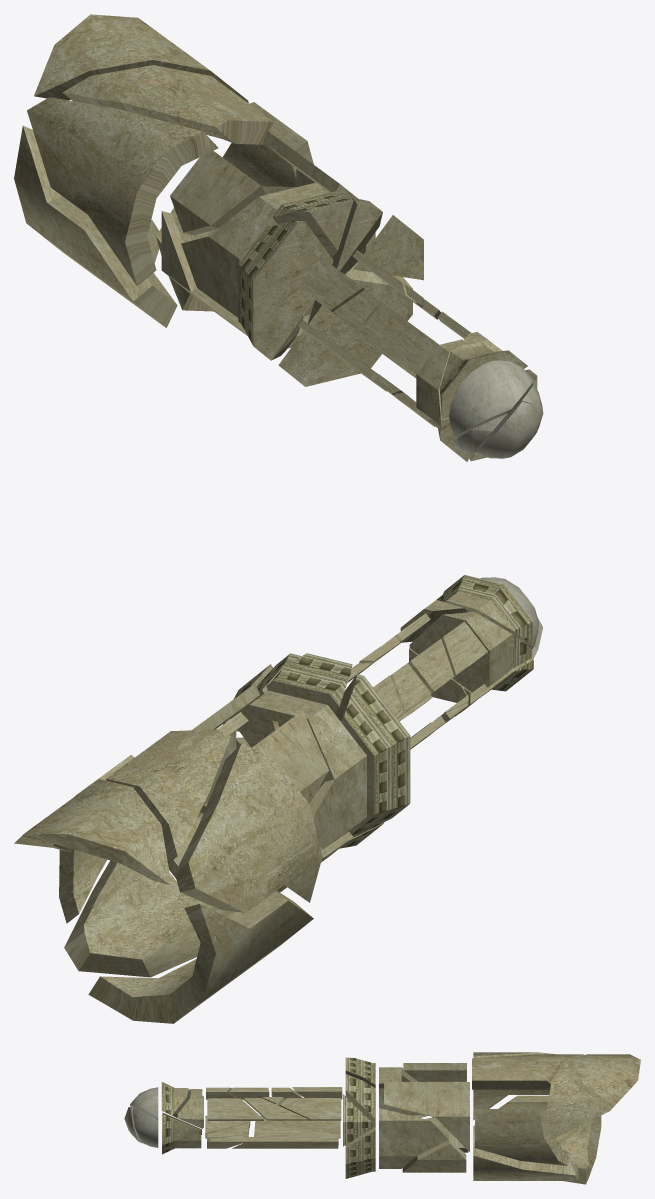
File: eldaba_tower_explode.glb
3 renders of one model, top to bottom at view 1: azimuth 30°, elevation 25°; view 2: azimuth 150°, elevation 25°; view 3: azimuth 270°, elevation 25°, orthographic. The views are drawn at different scales.
Bounding box in the file's own units: 158 × 158 × 718.
Materials: 5 (5 with a texture image).
